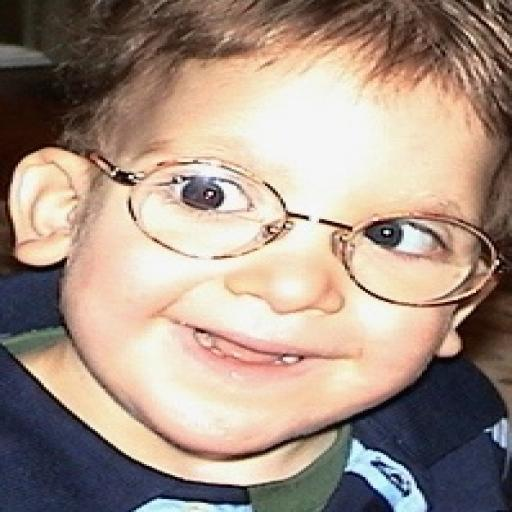Autism: (28, 9, 512, 507)
